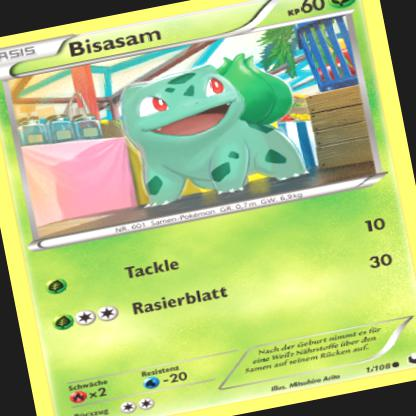Bulbasaur: (108, 43, 315, 214)
